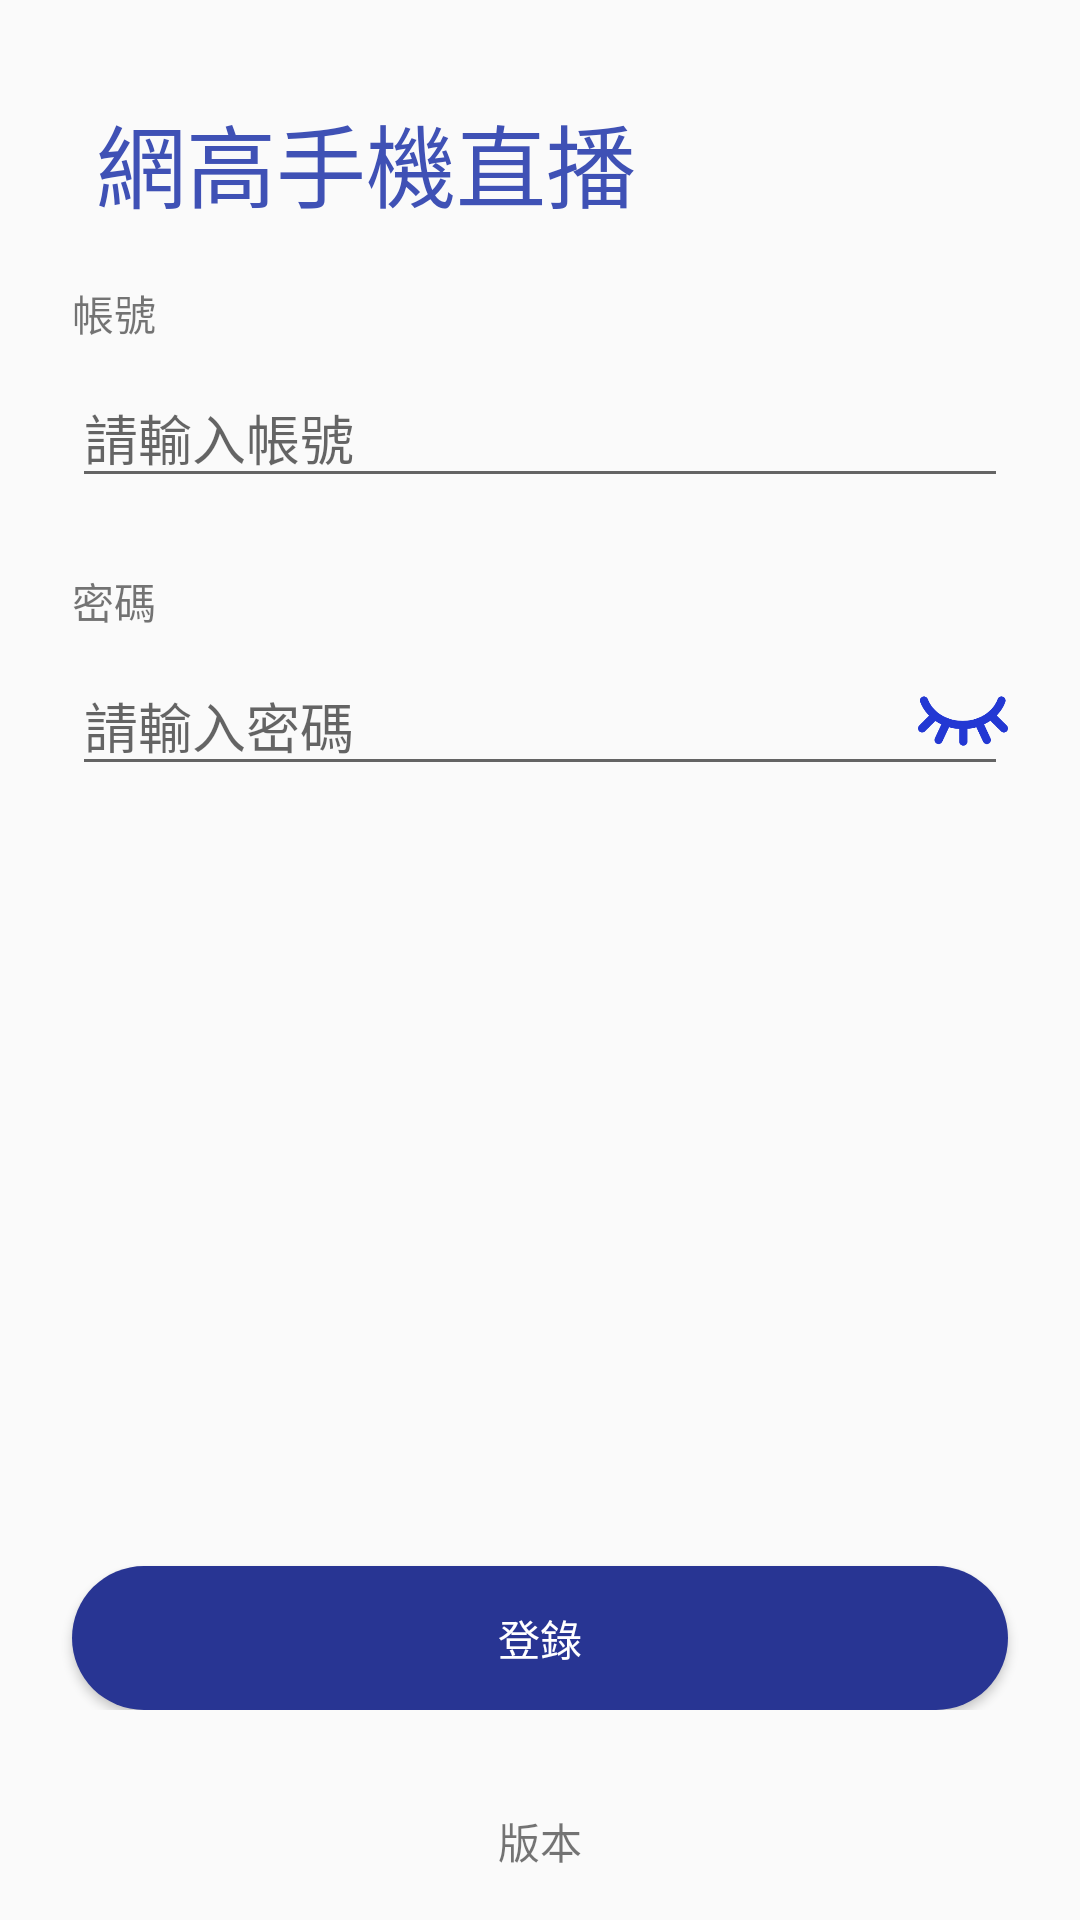

Named icons in this screenshot (1080*1920) and their centers, [x,y]:
eye: [963,721]
